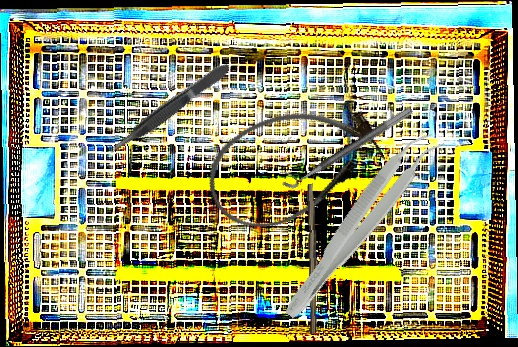Cannula: (192, 84, 395, 245)
Fixation Ring: (275, 95, 415, 194)
Scalpel Handle: (304, 183, 322, 334)
Tissue Forceps: (276, 122, 448, 330), (104, 59, 235, 159)
